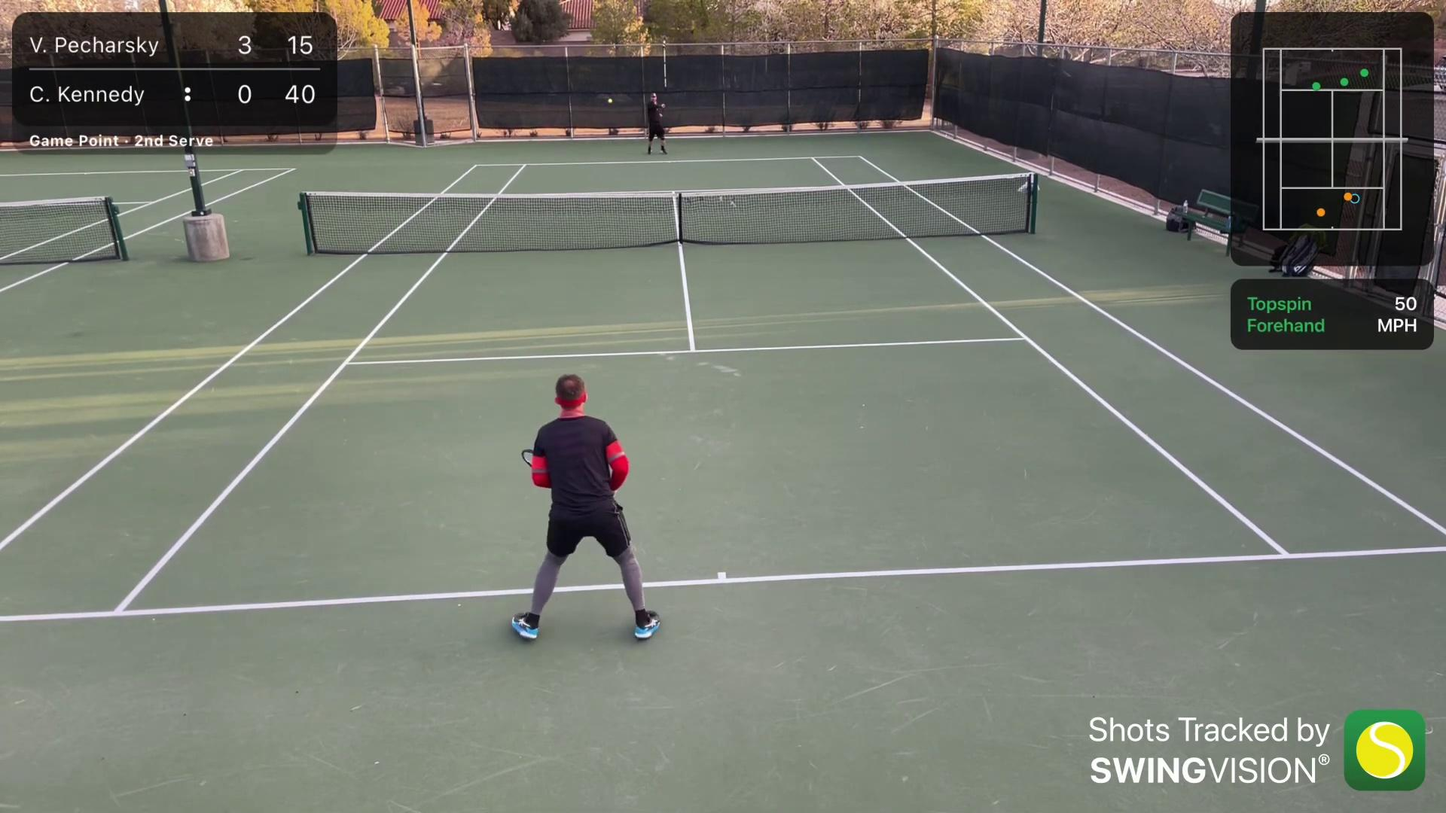ball: (326, 280, 336, 286), (606, 98, 614, 105)
